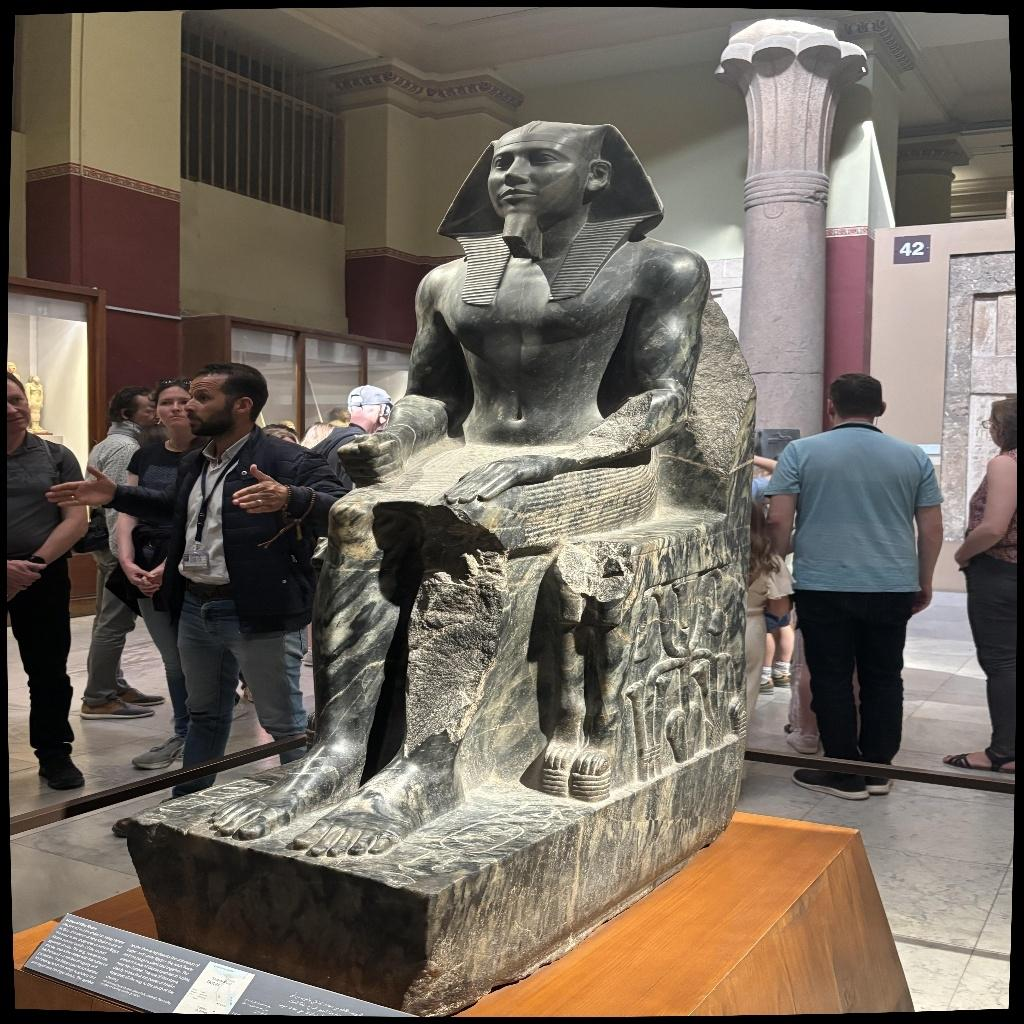Statue of Khafre: (110, 121, 754, 862)
